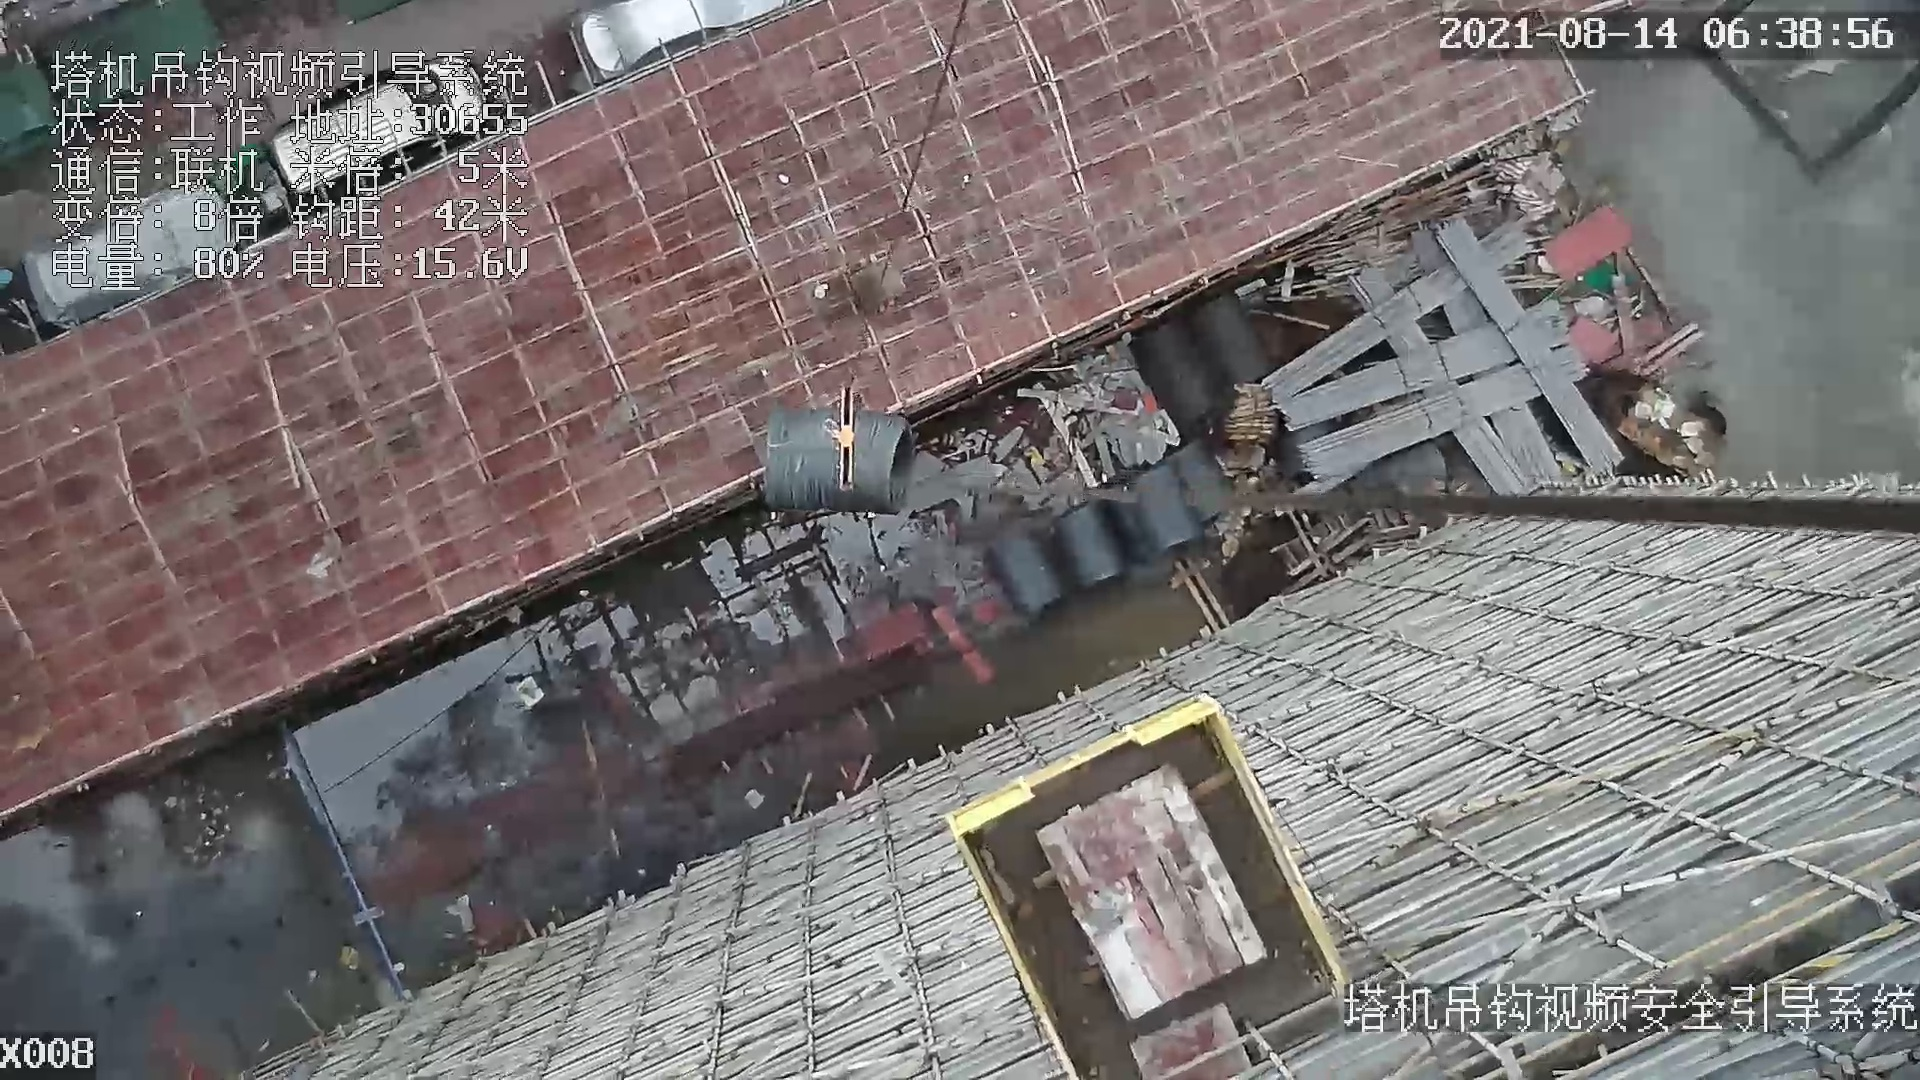hook: (818, 380, 865, 496)
